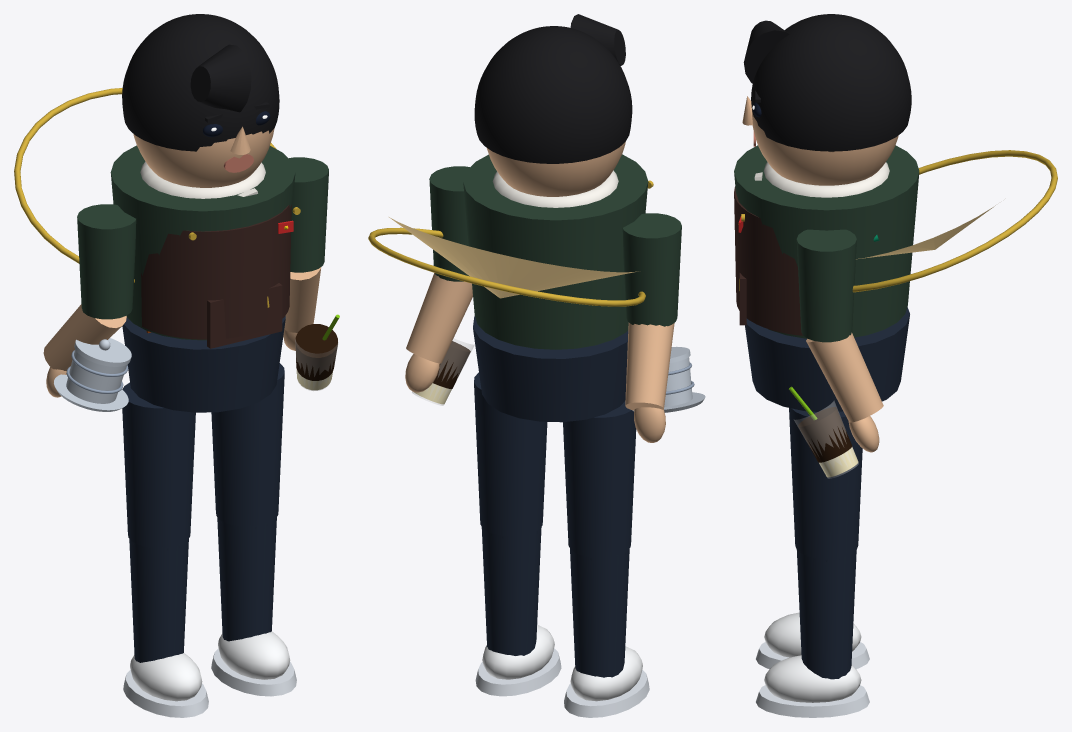
The model's file is ShiftSync_Vietnamese_Staff.glb.
3 views of the same model, side by side, from view 1: azimuth 30°, elevation 25°; view 2: azimuth 150°, elevation 25°; view 3: azimuth 270°, elevation 25° (orthographic).
Visible parts, largest first — view 1: Head, Apron_Bib, Pelvis, Chest, LeftHip, RightHip, LeftKnee, RightKnee, LeftShoulder, Head_Mesh, LeftAnkle, RightAnkle (+8 smaller); view 2: Chest, Head, Pelvis, LeftHip, RightHip, Non_La_Vietnam, LeftKnee, RightKnee, LeftShoulder, Head_Mesh, LeftElbow, RightAnkle (+8 smaller); view 3: Head, Chest, Pelvis, RightHip, RightKnee, RightShoulder, Apron_Bib, RightAnkle, Head_Mesh, Non_La_Vietnam, RightElbow, CaPhe_Sua_Da_Glass (+3 smaller).
Boxes of the visible parts, box(x1,y1,x2,y2) form: Head: box(122, 14, 279, 172); Apron_Bib: box(141, 204, 291, 339); Pelvis: box(122, 316, 285, 412); Chest: box(110, 145, 295, 340); LeftHip: box(122, 382, 195, 547); RightHip: box(211, 363, 284, 526); LeftKnee: box(129, 539, 188, 662); RightKnee: box(217, 517, 276, 641); LeftShoulder: box(77, 204, 136, 319); Head_Mesh: box(133, 128, 274, 187); LeftAnkle: box(123, 653, 208, 717); RightAnkle: box(211, 631, 296, 696); Chest: box(463, 154, 648, 349); Head: box(474, 14, 632, 163); Pelvis: box(473, 316, 628, 422); LeftHip: box(563, 401, 636, 557); RightHip: box(474, 372, 547, 536); Non_La_Vietnam: box(368, 217, 645, 306); LeftKnee: box(570, 548, 629, 677); RightKnee: box(481, 527, 541, 655); LeftShoulder: box(622, 213, 681, 326); Head_Mesh: box(487, 141, 625, 196); LeftElbow: box(625, 322, 674, 410); RightAnkle: box(475, 624, 561, 696); Head: box(742, 14, 911, 152); Chest: box(734, 145, 919, 338); Pelvis: box(745, 307, 909, 411); RightHip: box(789, 408, 862, 558); RightKnee: box(797, 550, 856, 679); RightShoulder: box(796, 229, 856, 342); Apron_Bib: box(734, 186, 803, 335); RightAnkle: box(756, 655, 869, 717); Head_Mesh: box(752, 110, 898, 185); Non_La_Vietnam: box(852, 150, 1057, 292); RightElbow: box(806, 332, 883, 422); CaPhe_Sua_Da_Glass: box(789, 386, 858, 478).
Size of the model in its own units: 0.6958 by 1.57 by 0.6987.
